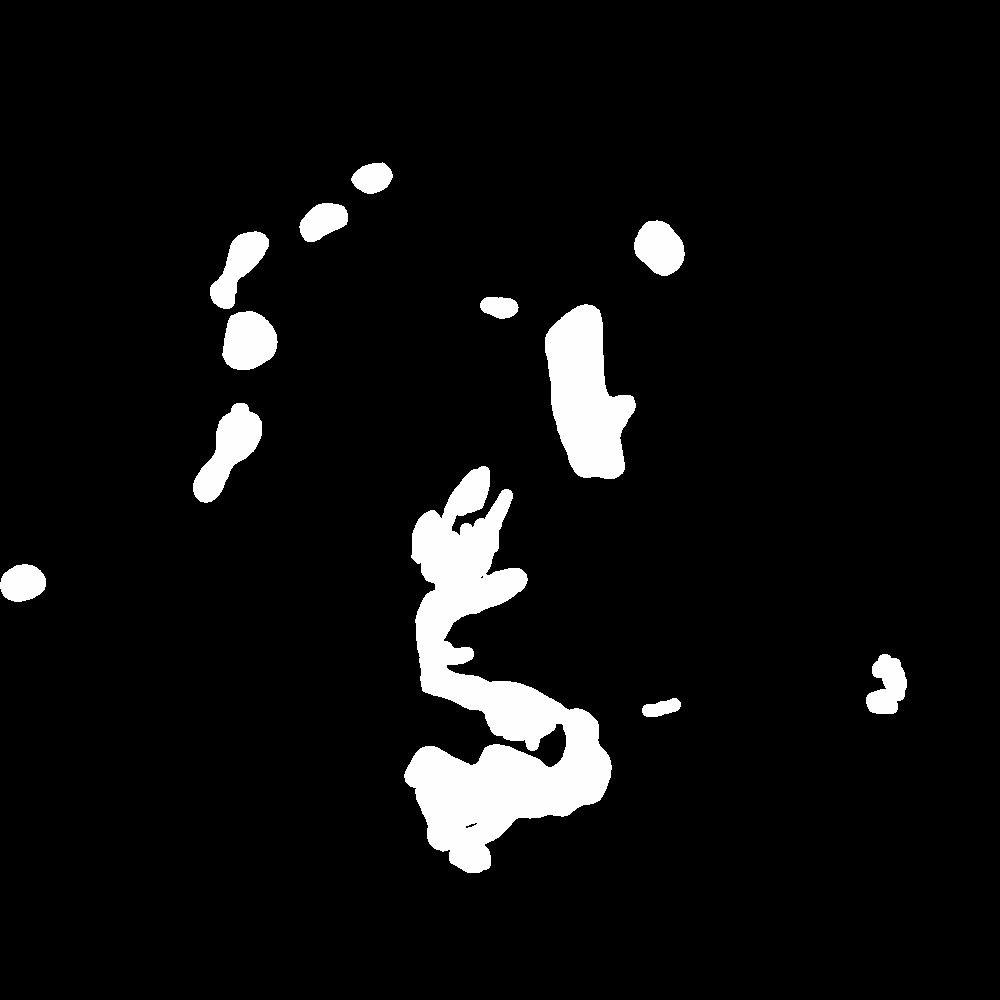illegal: (400, 671, 610, 879), (211, 161, 393, 368), (646, 542, 797, 715), (410, 463, 526, 670), (548, 305, 631, 484), (191, 403, 264, 511), (616, 210, 684, 276), (6, 565, 49, 598)
